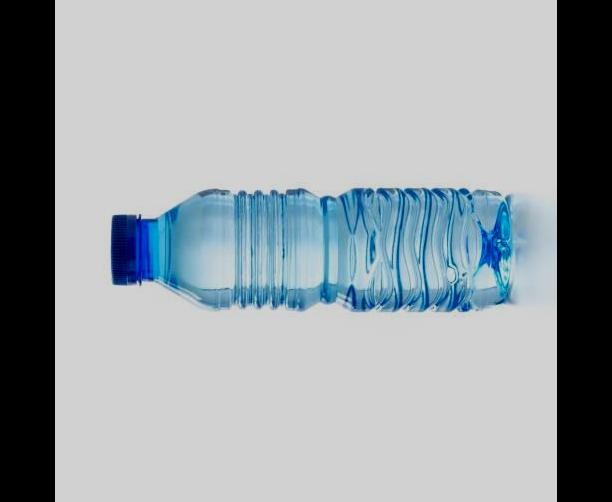bottle: (113, 183, 520, 314)
